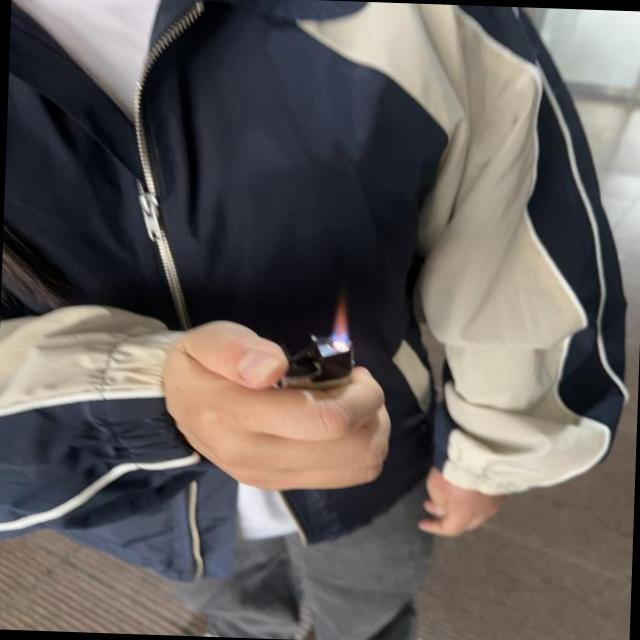Fire: (334, 298, 352, 354)
